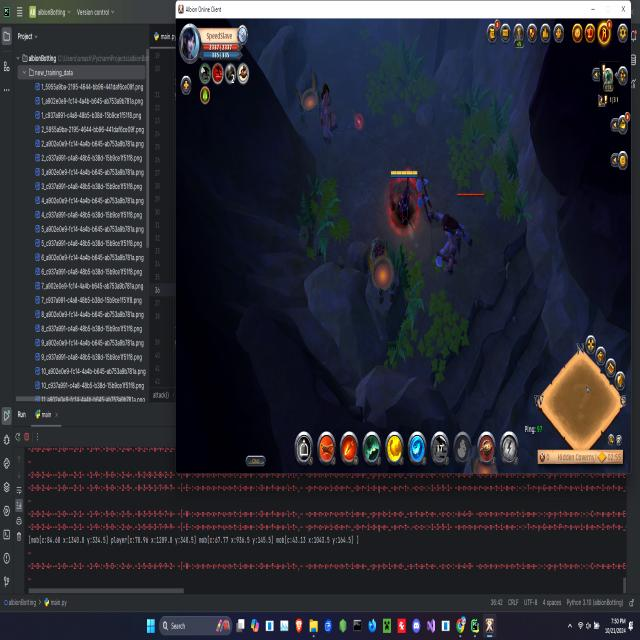ore: (414, 185, 487, 277), (314, 77, 340, 147), (351, 108, 367, 138)
red: (387, 163, 422, 230)
